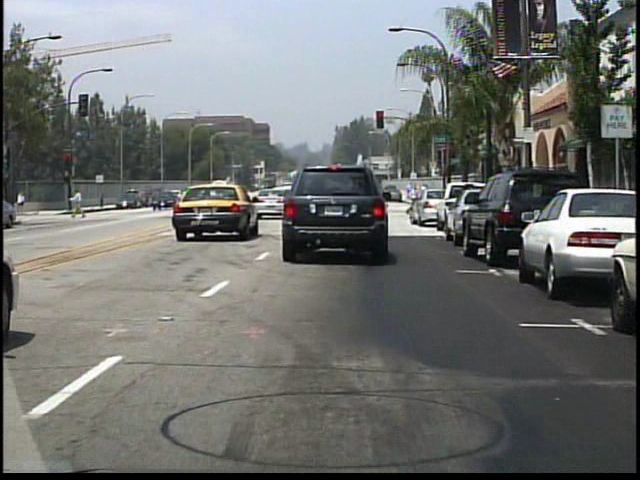person: (403, 182, 423, 216), (72, 187, 87, 220), (16, 189, 29, 215)
